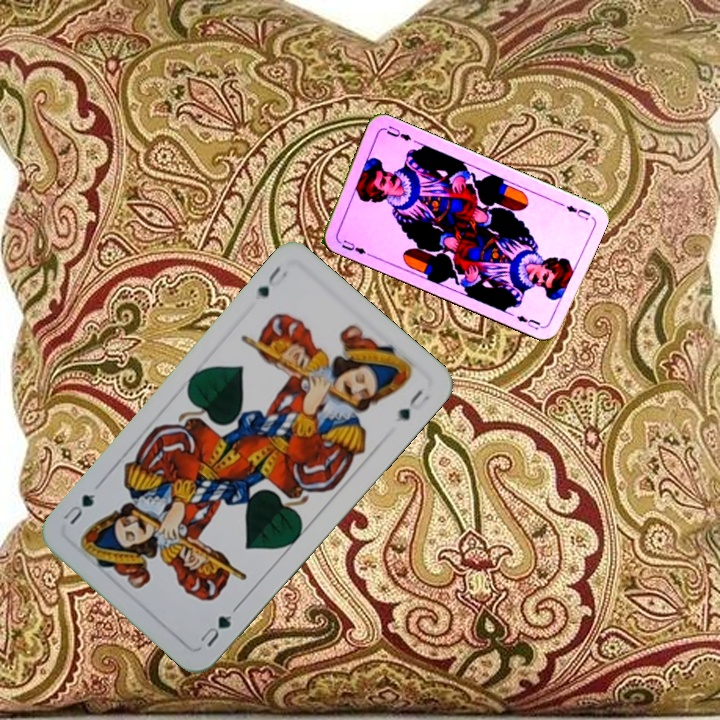EU: (337, 236, 372, 258), (562, 201, 593, 223)
GU: (194, 611, 235, 650), (253, 261, 290, 300)
